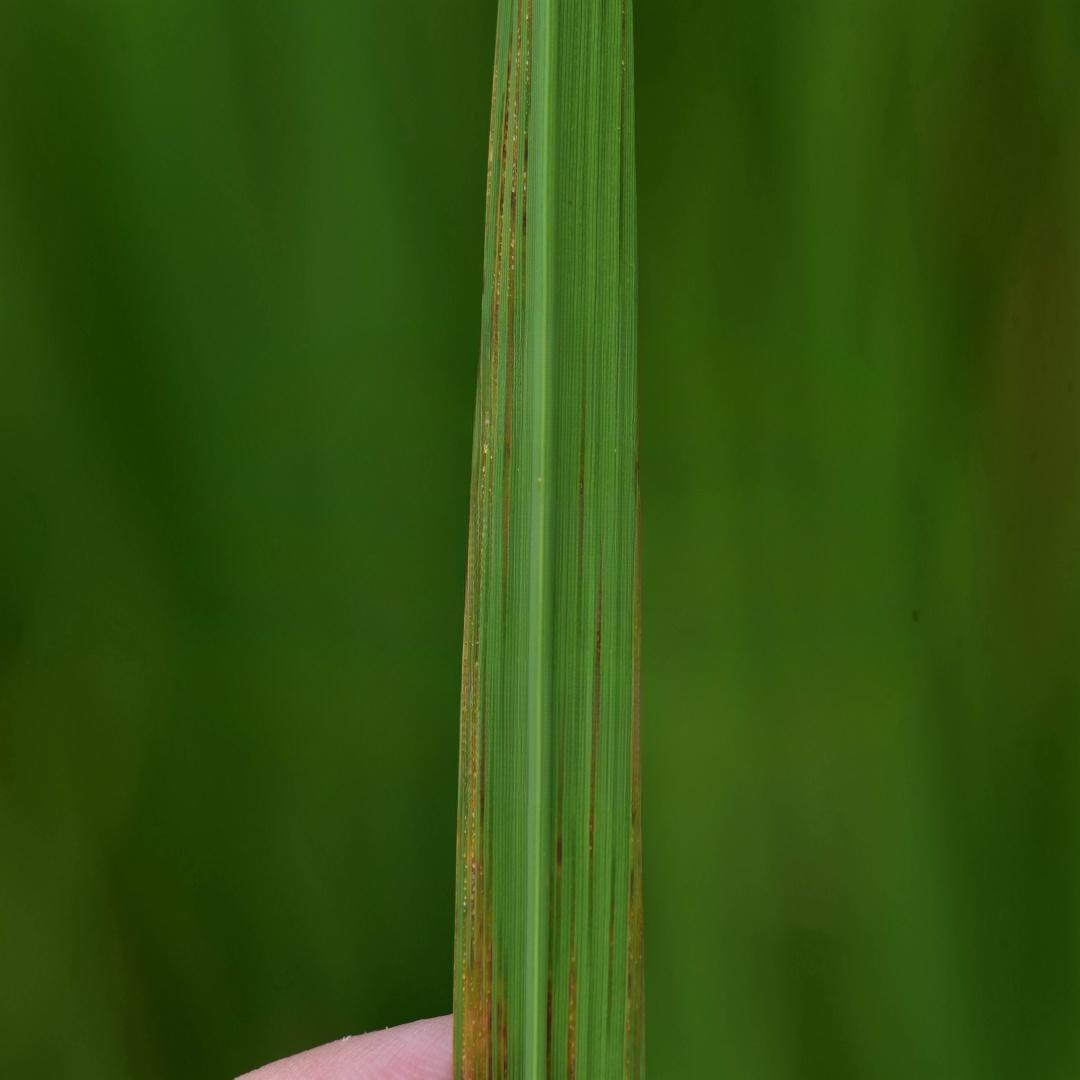BLS: (461, 345, 494, 1079), (500, 0, 522, 639), (625, 455, 644, 1079), (492, 1, 512, 445), (483, 16, 502, 313), (460, 466, 475, 801), (589, 539, 602, 925), (522, 0, 532, 343), (577, 344, 586, 628), (452, 812, 461, 1079), (568, 849, 576, 1079), (605, 860, 615, 1037), (546, 870, 554, 1079), (557, 734, 564, 962), (619, 0, 626, 172), (489, 415, 494, 587), (497, 921, 502, 1079), (503, 951, 508, 1079)
